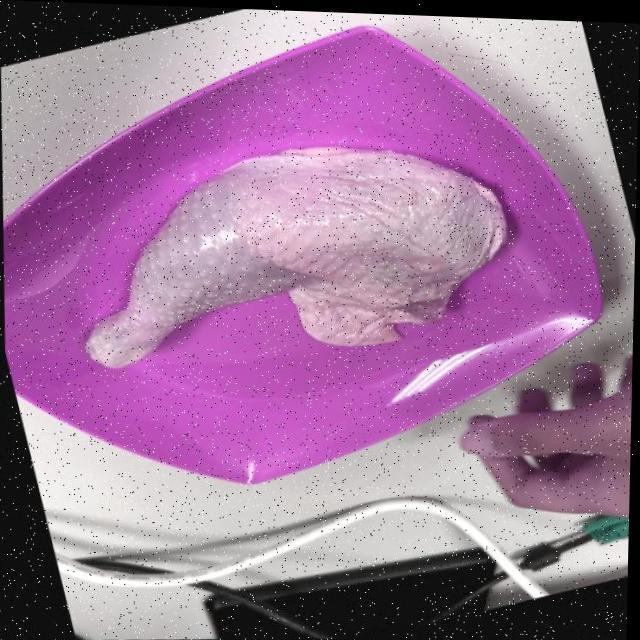quater: (87, 137, 500, 380)
